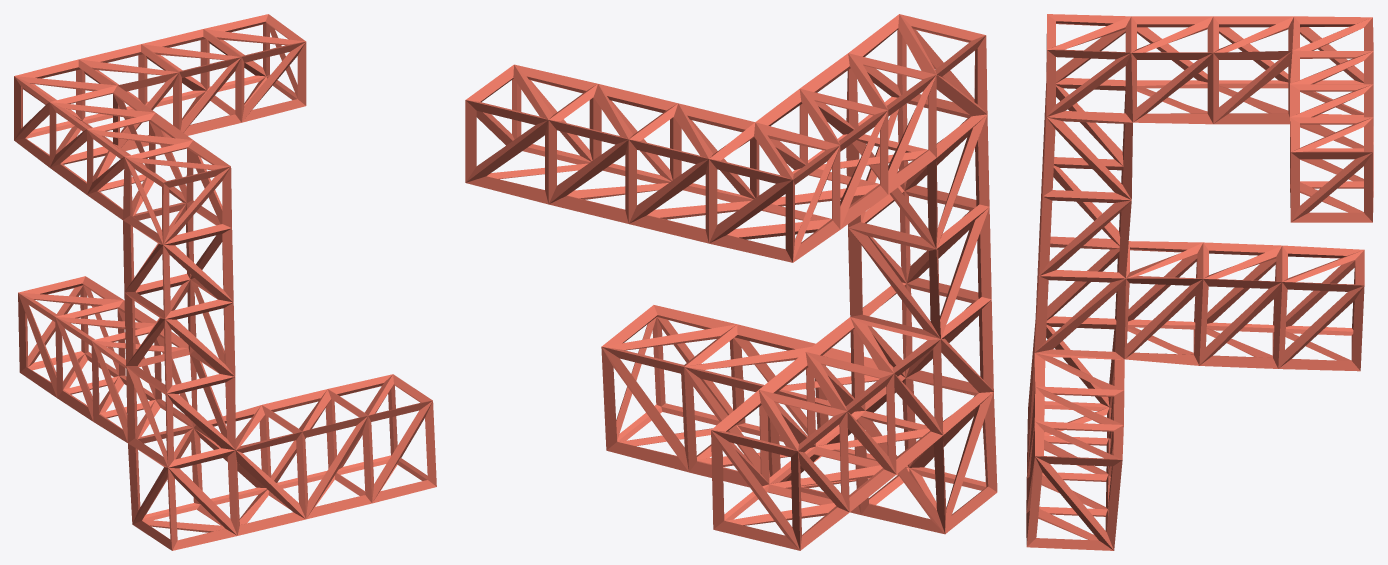
File: scaffolding.glb
3 renders of one model, left to right at view 1: azimuth 30°, elevation 25°; view 2: azimuth 150°, elevation 25°; view 3: azimuth 270°, elevation 25°, orthographic. The views are drawn at different scales.
Visible parts, largest first — view 1: Scaffolding; view 2: Scaffolding; view 3: Scaffolding.
Boxes of the visible parts, bbox=[...] form: Scaffolding: bbox=[14, 14, 436, 550]; Scaffolding: bbox=[465, 14, 997, 550]; Scaffolding: bbox=[1026, 14, 1373, 550].
Bounding box in the file's own units: 9.56 × 12.58 × 9.96.
